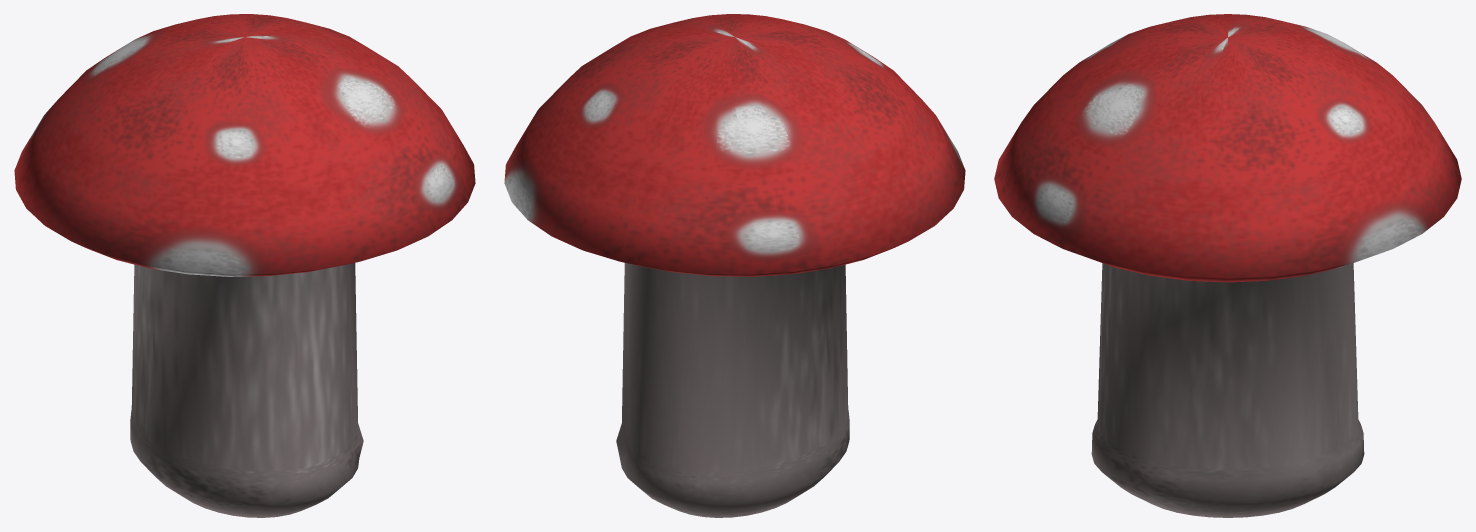
The model's file is LampLight_Mushroom_4.FBX.
3 views of the same model, side by side, from view 1: azimuth 30°, elevation 25°; view 2: azimuth 150°, elevation 25°; view 3: azimuth 270°, elevation 25° (orthographic).
Visible parts, largest first — view 1: Mushroom_1; view 2: Mushroom_1; view 3: Mushroom_1.
Boxes of the visible parts, box(x1,y1,x2,y2) form: Mushroom_1: box(14, 14, 475, 517); Mushroom_1: box(504, 14, 965, 517); Mushroom_1: box(994, 14, 1461, 517).
Size of the model in its own units: 27.06 by 28.73 by 27.06.
